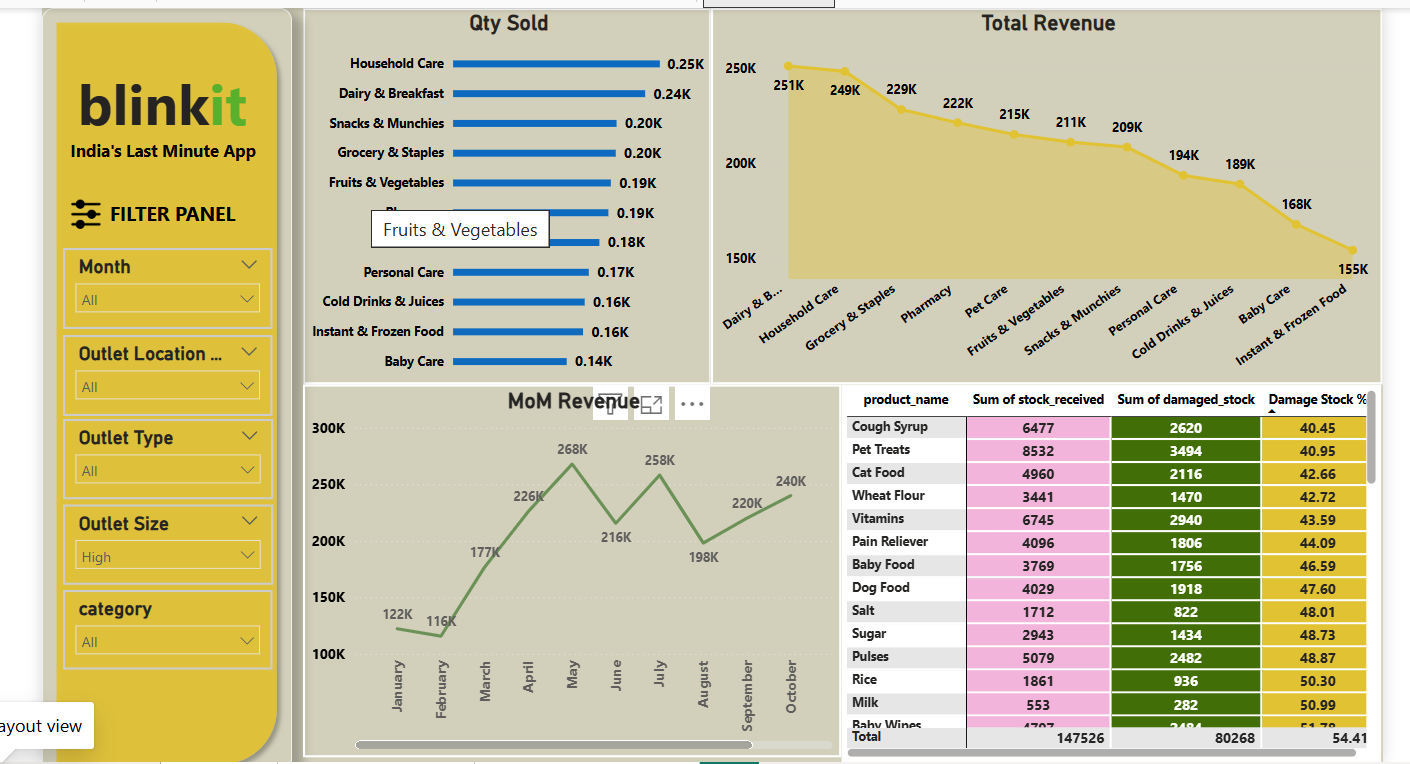

Layout of this report page (visuals, bound fields, positions):
{"tool":"powerbi","page":{"name":"Sales & Products","canvas":[1280,720],"ordinal":1},"visuals":[{"type":"barChart","title":"Qty Sold ","fields":{"Category":["blinkit_products.category"],"Y":["Measures (2).Total Qty Sold"]},"box":[249.7,0,389.7,359.5],"z":0},{"type":"lineChart","title":"Total Revenue ","fields":{"Y":["Measures (2).Total Revenue"],"Category":["blinkit_products.category"]},"box":[639.4,0,641,359.5],"z":1000},{"type":"pivotTable","fields":{"Values":["Sum(blinkit_inventory_NO.stock_received)","Sum(blinkit_inventory_NO.damaged_stock)","Measures (2).Damage Stock %"],"Rows":["blinkit_products.product_name"]},"box":[763.5,359.5,515.4,361.1],"z":2000},{"type":"shape","box":[0,0,238.6,736.5],"z":3000},{"type":"lineChart","title":"MoM Revenue","fields":{"Category":["blinkit_orders.order_date.Variation.Date Hierarchy.Month"],"Y":["Sum(blinkit_orders.order_total)"]},"box":[249.7,359.5,513.8,356.3],"z":4000},{"type":"textbox","box":[0,49.3,259.3,114.5],"z":5000},{"type":"image","box":[19.1,178.1,46.1,38.2],"z":6000},{"type":"textbox","box":[55,178,155,41],"z":7000},{"type":"slicer","fields":{"Values":["blinkit_orders.order_date.Variation.Date Hierarchy.Month"]},"box":[20,229,200,77],"z":8000},{"type":"slicer","fields":{"Values":["blinkit_orders.Outlet Size"]},"box":[20,474,200.4,76.3],"z":9000},{"type":"slicer","fields":{"Values":["blinkit_orders.Outlet Type"]},"box":[20,392,200.4,76.3],"z":10000},{"type":"slicer","fields":{"Values":["blinkit_orders.Outlet Location Type"]},"box":[20,312,200,77],"z":11000},{"type":"slicer","fields":{"Values":["blinkit_products.category"]},"box":[20,556,200,76],"z":12000}]}

Visuals, with their boxes on the page's 1280x720 design canvas (x1, y1, x2, y2). These are canvas units, not pixel positions in the 1410x764 screenshot, which may show the page scaled, cropped or inside an application window:
"Qty Sold " barChart: rect(250, 0, 639, 360)
"Total Revenue " lineChart: rect(639, 0, 1280, 360)
pivotTable - Sum(blinkit_inventory_NO.stock_received) x Sum(blinkit_inventory_NO.damaged_stock): rect(764, 360, 1279, 721)
shape: rect(0, 0, 239, 736)
"MoM Revenue" lineChart: rect(250, 360, 764, 716)
textbox: rect(0, 49, 259, 164)
image: rect(19, 178, 65, 216)
textbox: rect(55, 178, 210, 219)
slicer - blinkit_orders.order_date.Variation.Date Hierarchy.Month: rect(20, 229, 220, 306)
slicer - blinkit_orders.Outlet Size: rect(20, 474, 220, 550)
slicer - blinkit_orders.Outlet Type: rect(20, 392, 220, 468)
slicer - blinkit_orders.Outlet Location Type: rect(20, 312, 220, 389)
slicer - blinkit_products.category: rect(20, 556, 220, 632)
